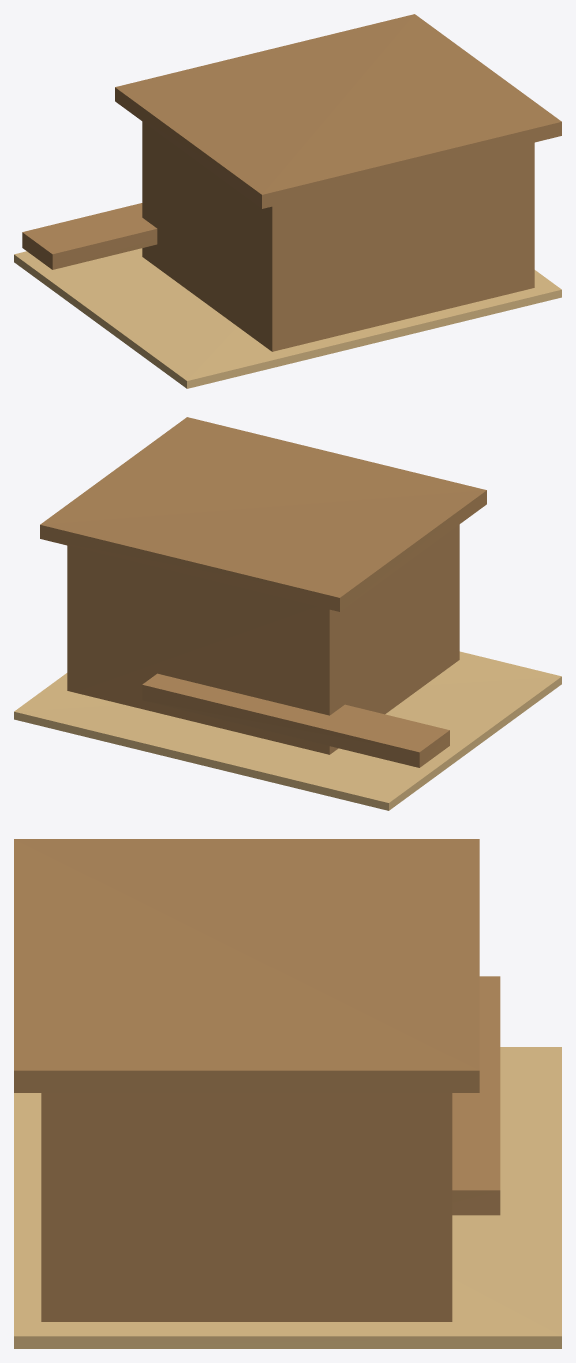
Rendered from Robotic-packing-facility.glb.
3 views of the same model, one above another, from view 1: azimuth 30°, elevation 25°; view 2: azimuth 150°, elevation 25°; view 3: azimuth 270°, elevation 25° (orthographic). The views are drawn at different scales.
Visible parts, largest first — view 1: robotic-packing-facility-static-packing-wall, robotic-packing-facility-static-packing-teal, robotic-packing-facility-static-packing-earth, robotic-packing-facility-static-packing-belt; view 2: robotic-packing-facility-static-packing-teal, robotic-packing-facility-static-packing-wall, robotic-packing-facility-static-packing-earth, robotic-packing-facility-static-packing-belt; view 3: robotic-packing-facility-static-packing-teal, robotic-packing-facility-static-packing-wall, robotic-packing-facility-static-packing-earth, robotic-packing-facility-static-packing-belt.
Part boxes in pixels (x1,y1,x2,y2): robotic-packing-facility-static-packing-wall: (142,121,534,351); robotic-packing-facility-static-packing-teal: (115,14,561,208); robotic-packing-facility-static-packing-earth: (14,248,561,388); robotic-packing-facility-static-packing-belt: (22,203,157,269); robotic-packing-facility-static-packing-teal: (40,417,486,611); robotic-packing-facility-static-packing-wall: (67,524,459,754); robotic-packing-facility-static-packing-earth: (14,651,561,810); robotic-packing-facility-static-packing-belt: (142,673,449,767); robotic-packing-facility-static-packing-teal: (14,839,479,1092); robotic-packing-facility-static-packing-wall: (41,1093,452,1321); robotic-packing-facility-static-packing-earth: (14,1047,561,1348); robotic-packing-facility-static-packing-belt: (452,976,500,1215).
Bounding box in the file's own units: 5.15 × 2.24 × 4.
